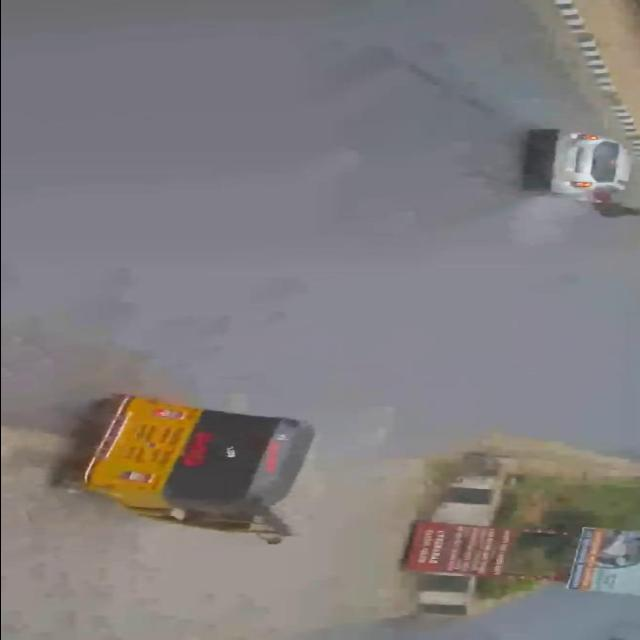accident: (501, 118, 640, 222)
